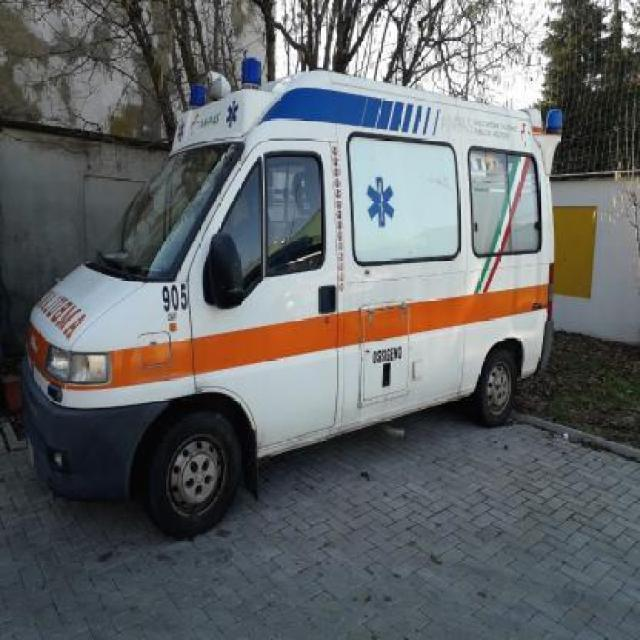emergency: (19, 54, 565, 538)
